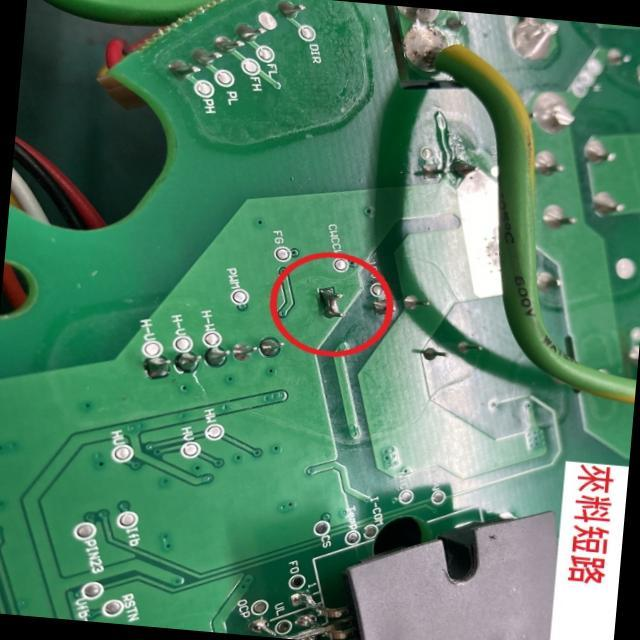Short_circuit: (319, 288, 343, 317)
